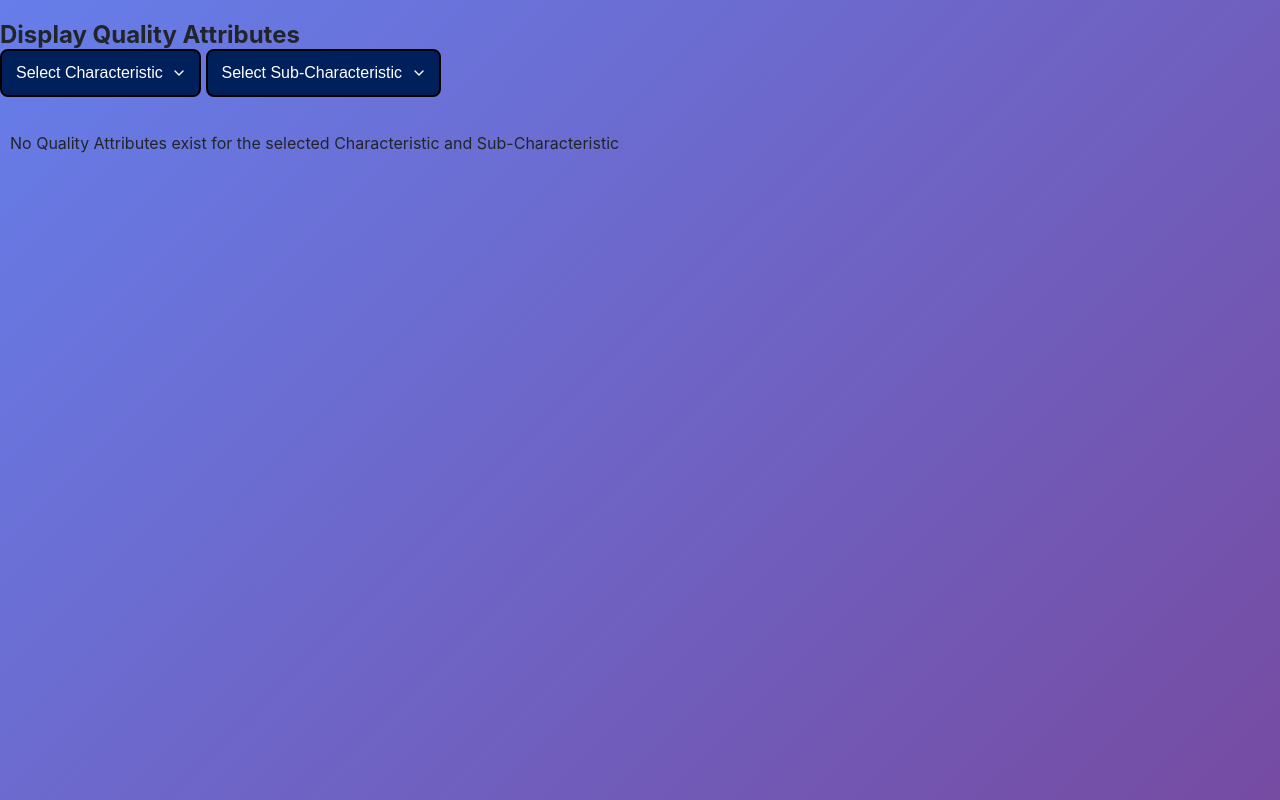
it: Requirements › clear subCharacteristic
Select "Performance" in the 1st dropdown at (100, 73), box [0,49,201,97]
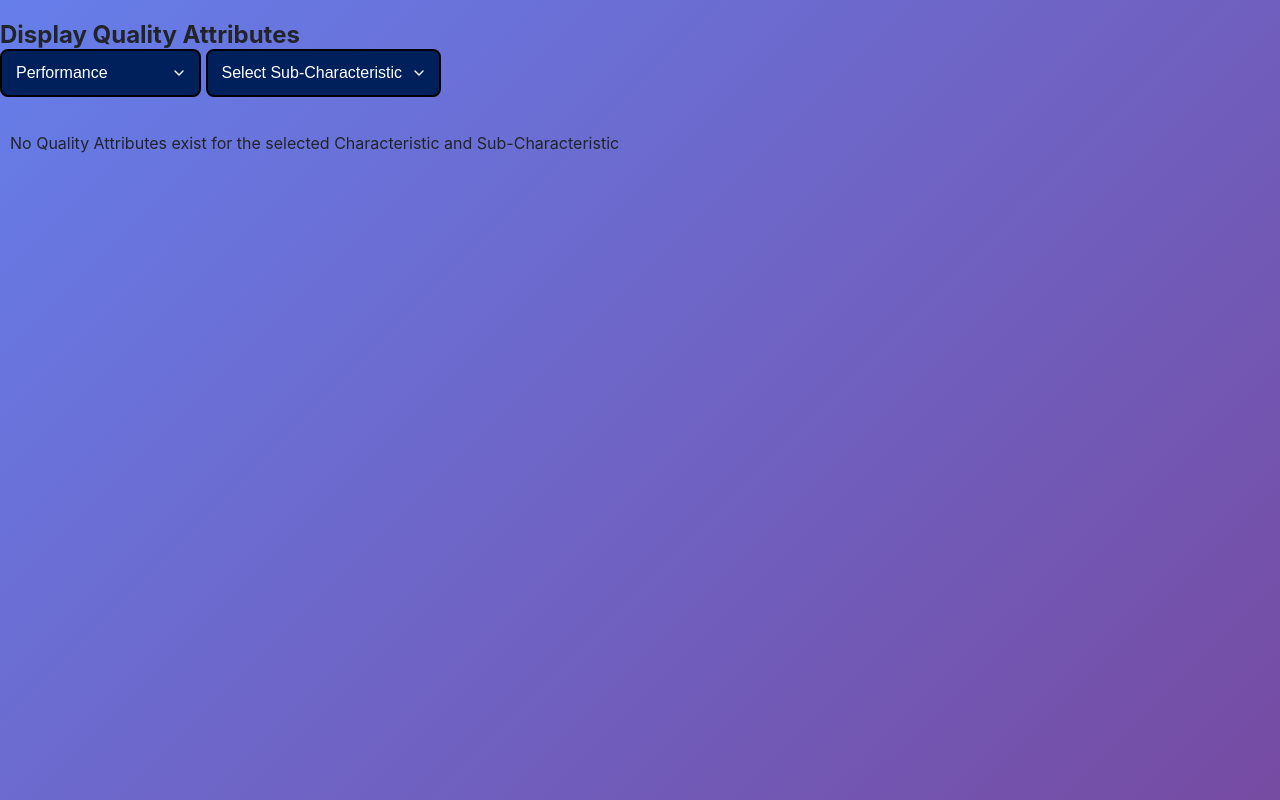
Select "Time Behaviour" in the 2nd dropdown at (323, 73), box [206,49,440,97]
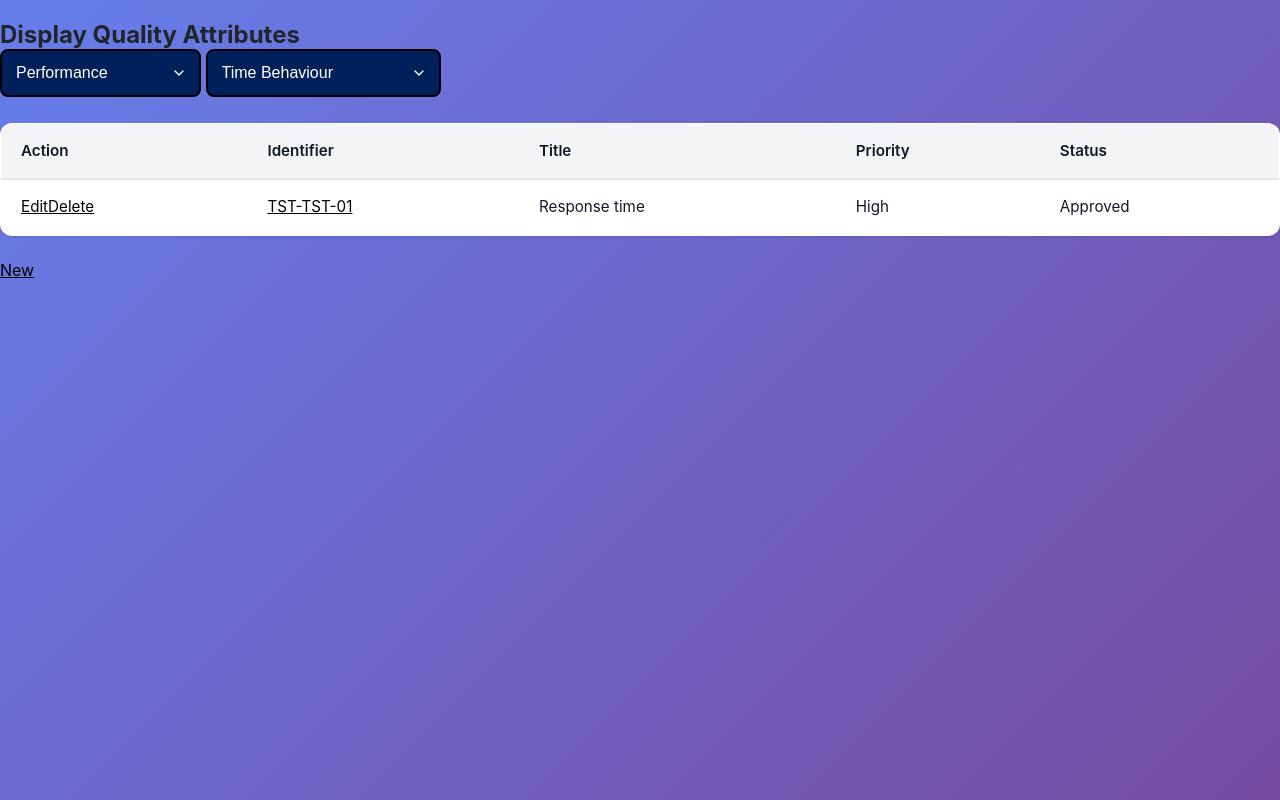
Now the link "TST-TST-01" is shown, box [267,197,352,216]
Select "Select Sub-Characteristic" in the 2nd dropdown at (323, 73), box [206,49,440,97]
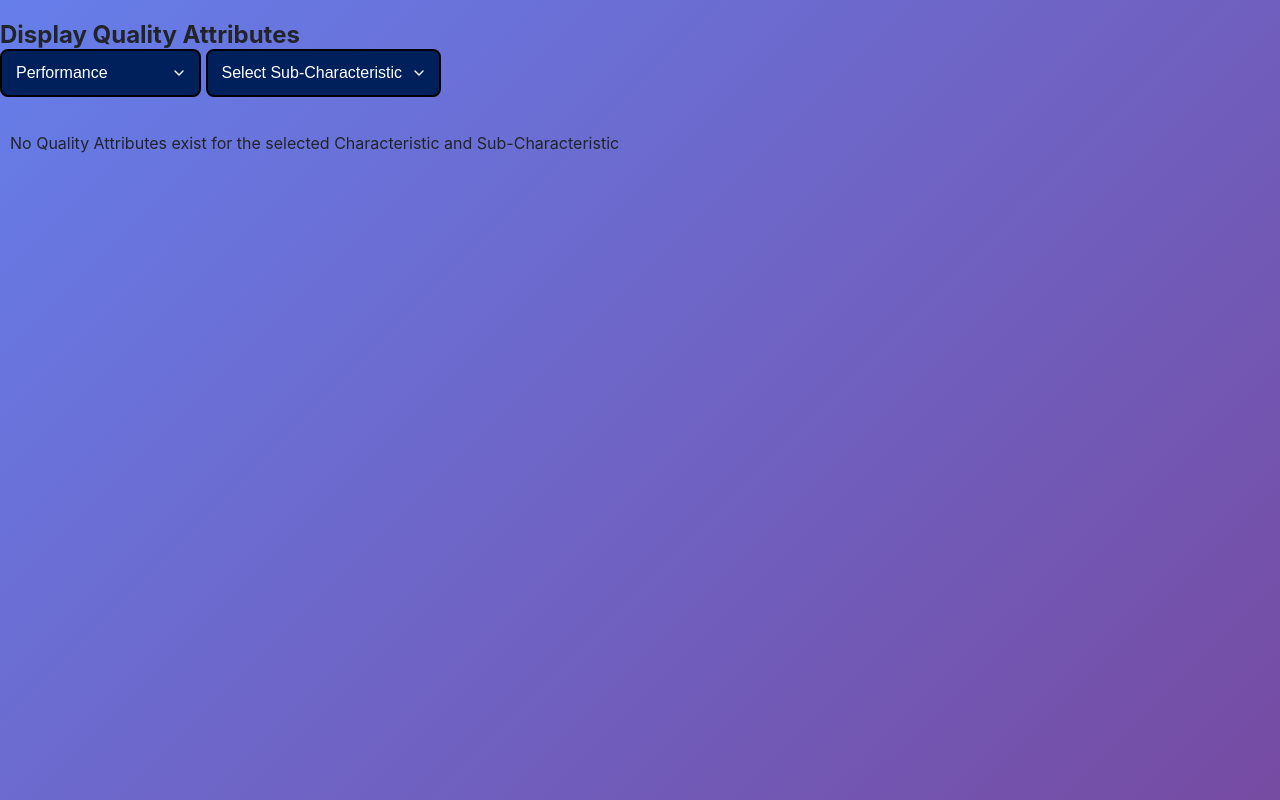
Now the link "TST-TST-01" is gone
Now the text "No Quality Attributes exist for the selected Characteristic and Sub-Characteristic" is shown, box [10,133,619,153]
